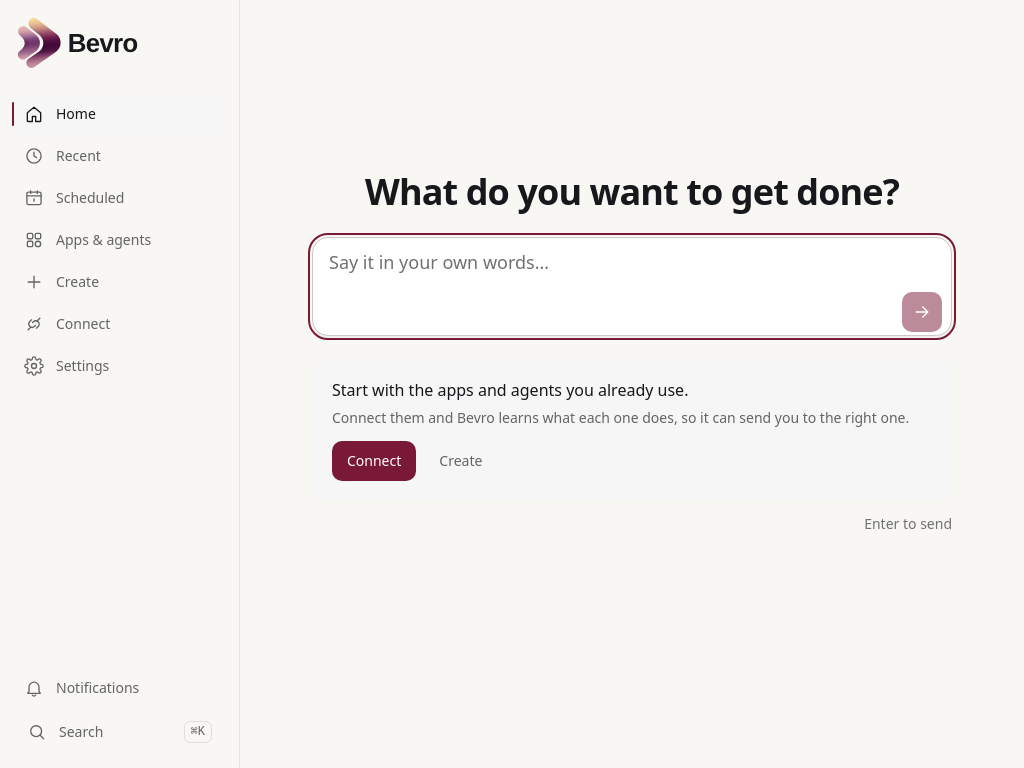
asking creates a task, shows it working, then shows the outcome and deep link
Type "Move my meetings to free up Friday afternoon" into the text box named "What do you want to get done?" at x=632, y=286, box [312, 237, 952, 336]
Then press Enter
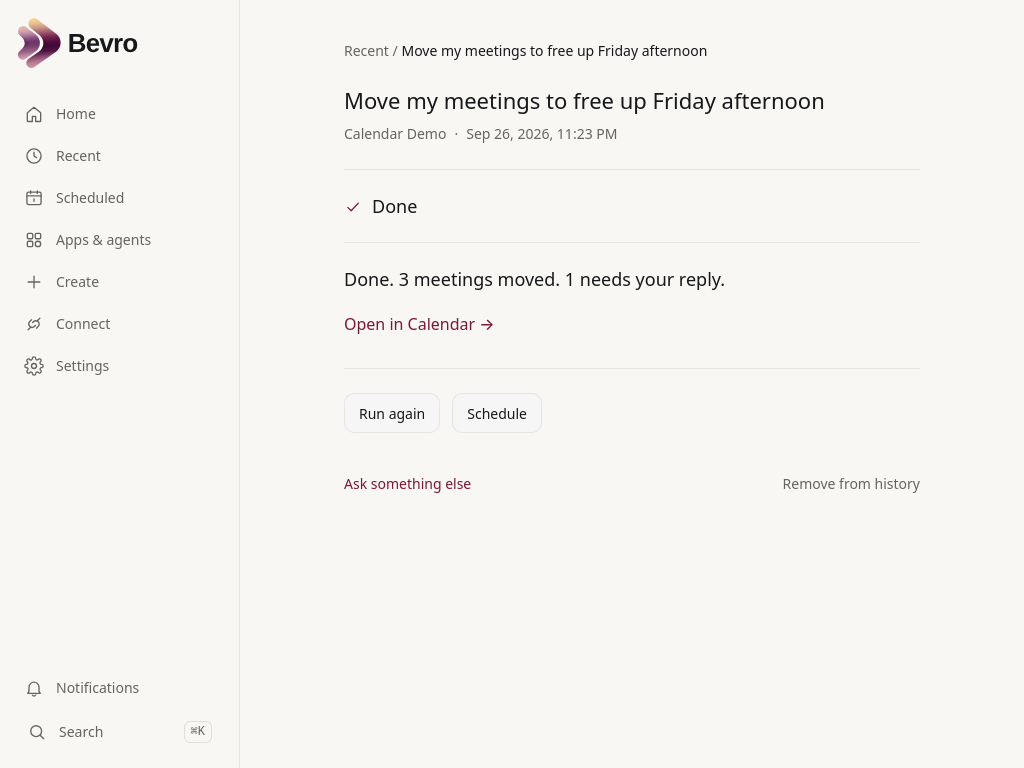
Expected: the text "Done. 3 meetings moved. 1 needs your reply." is shown, [344, 267, 725, 291]
Expected: the text "Done" is shown, [372, 194, 417, 218]
